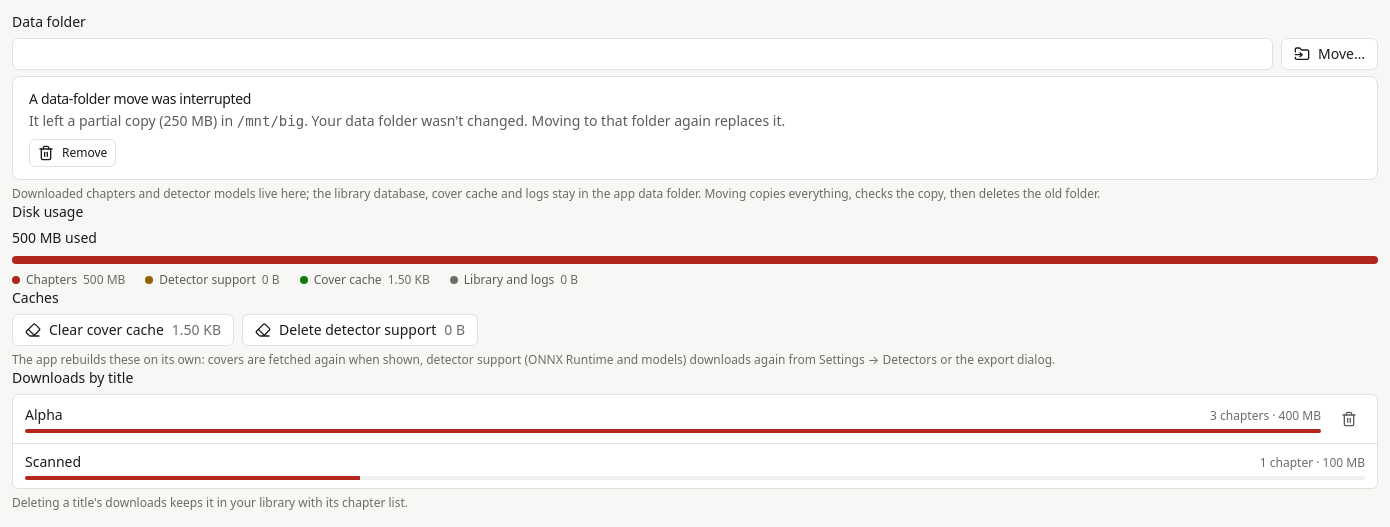
Test: storage panel › lists a partial copy a killed move left and removes it
Expected: the text "A data-folder move was interrupted" is shown, [29,89,251,108]
Expected: the text "/mnt/big" is shown, [237,113,304,129]
Click the button "Remove" at coordinates (73, 153), box [29,139,116,167]
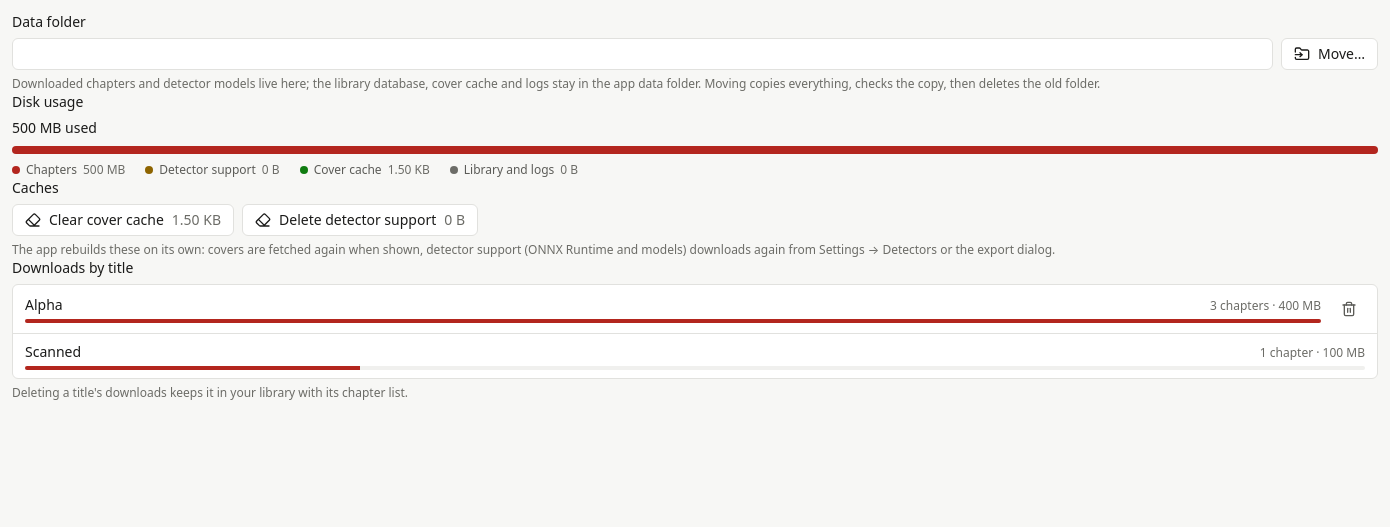
Result: the text "A data-folder move was interrupted" is gone
